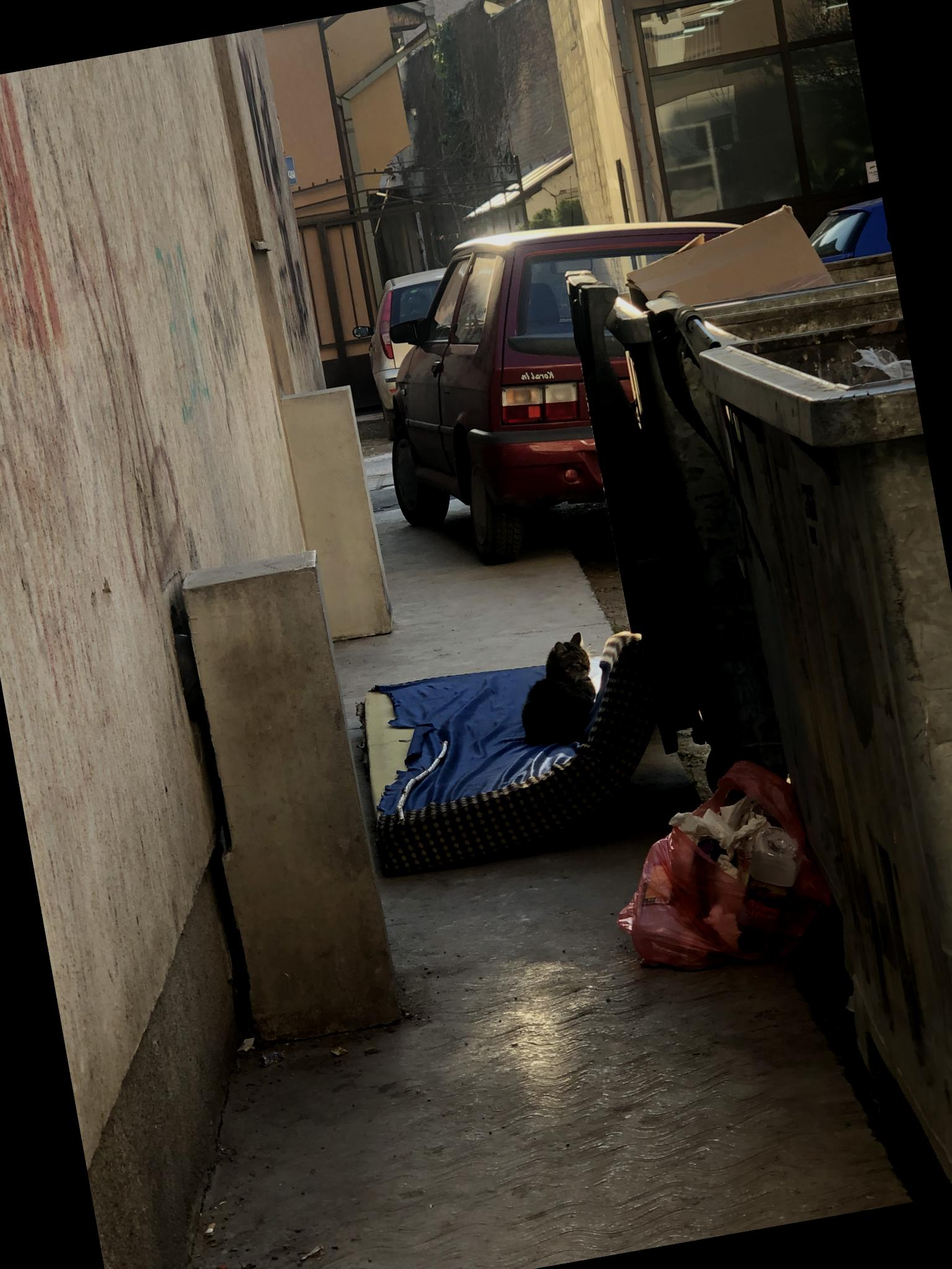macka: (509, 630, 603, 749)
